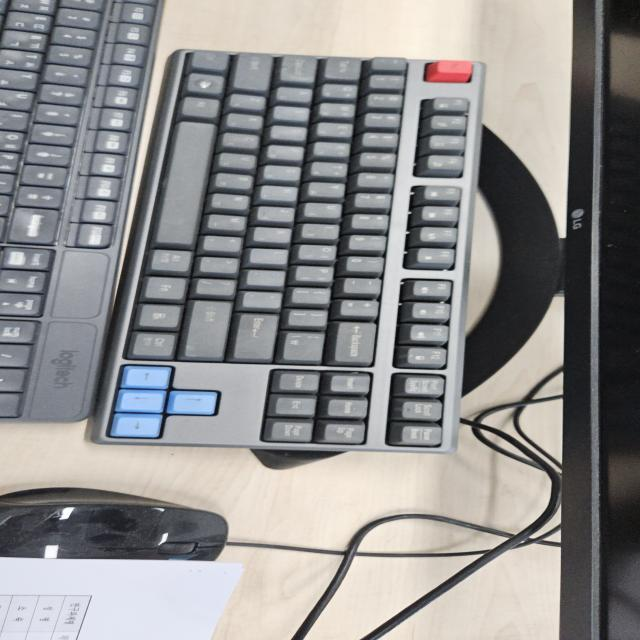Keyboard: (87, 47, 485, 454)
Mouse: (1, 486, 232, 562)
